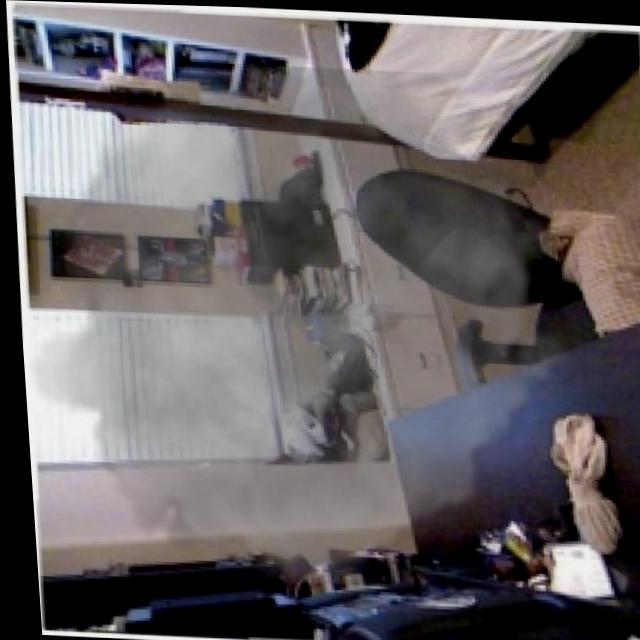Smoke: (13, 52, 592, 591)
